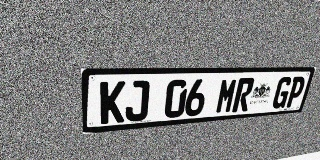0: (164, 79, 188, 119)
6: (184, 79, 208, 117)
G: (271, 77, 294, 109)
J: (125, 80, 150, 122)
K: (100, 81, 126, 124)
M: (215, 78, 239, 114)
P: (284, 76, 307, 108)
R: (232, 78, 255, 112)
